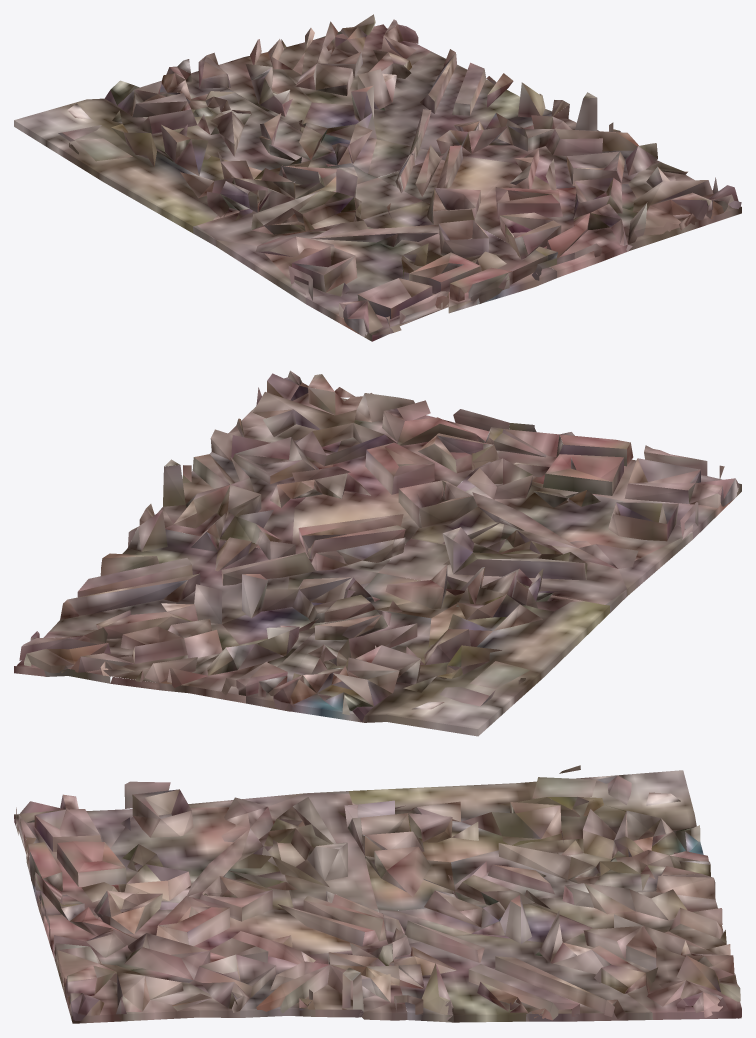
3 renders of one model, top to bottom at view 1: azimuth 30°, elevation 25°; view 2: azimuth 150°, elevation 25°; view 3: azimuth 270°, elevation 25°, orthographic. The views are drawn at different scales.
Parts seen in each view (by area): view 1: Mesh_0; view 2: Mesh_0; view 3: Mesh_0.
Boxes of the visible parts, left/top/right/bottom form: Mesh_0: left=14, top=14, right=741, bottom=341; Mesh_0: left=14, top=370, right=741, bottom=736; Mesh_0: left=14, top=765, right=741, bottom=1023.
Size of the model in its own units: 533 by 64.1 by 659.
Materials: 2 (2 with a texture image).
